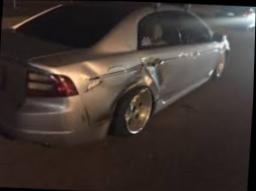Door: (137, 44, 190, 104)
Fender: (17, 49, 161, 148)
